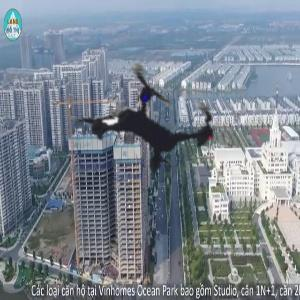drone: (44, 14, 258, 228)
